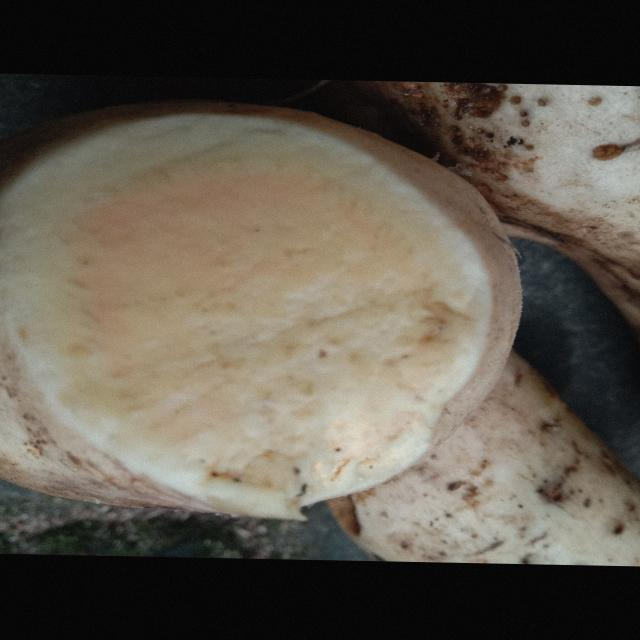Healthy Sweet Potato: (2, 115, 490, 519)
